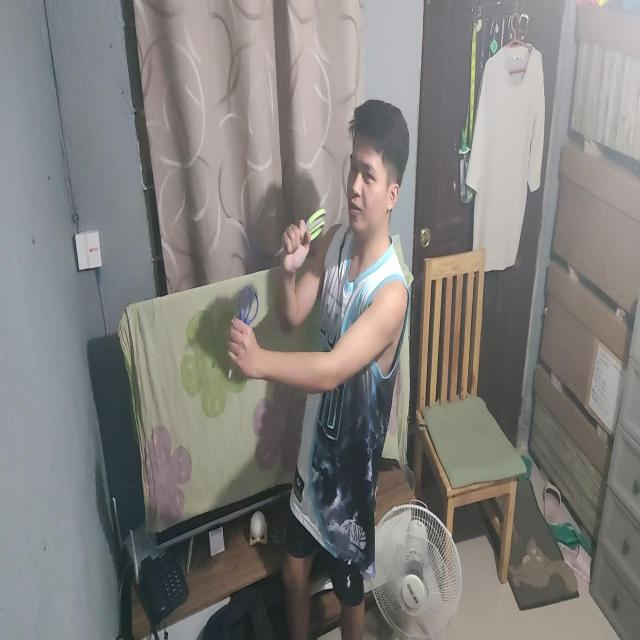scissor: (225, 284, 258, 377), (274, 205, 328, 258)
